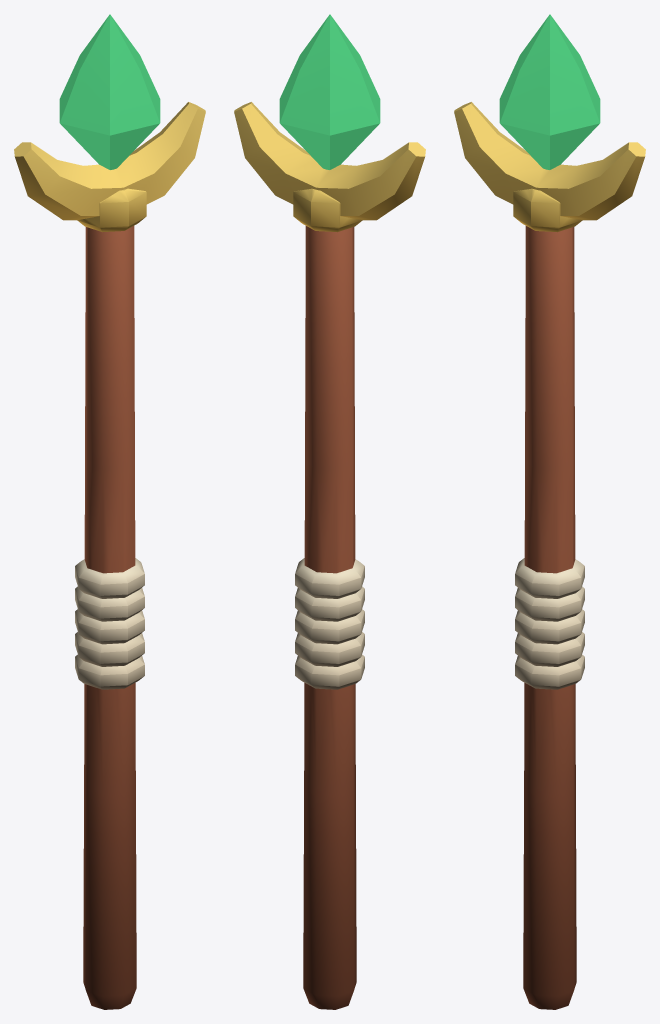
The model's file is staff_emerald.glb.
3 renders of one model, left to right at view 1: azimuth 30°, elevation 25°; view 2: azimuth 150°, elevation 25°; view 3: azimuth 330°, elevation 25°, orthographic.
Parts seen in each view (by area): view 1: Item; view 2: Item; view 3: Item.
Part boxes in pixels (bbox=[...]): Item: bbox=[14, 14, 205, 1009]; Item: bbox=[234, 14, 425, 1009]; Item: bbox=[454, 14, 645, 1009].
Size of the model in its own units: 0.4928 by 2.44 by 0.2252.
Materials: 3 (3 with a texture image).
